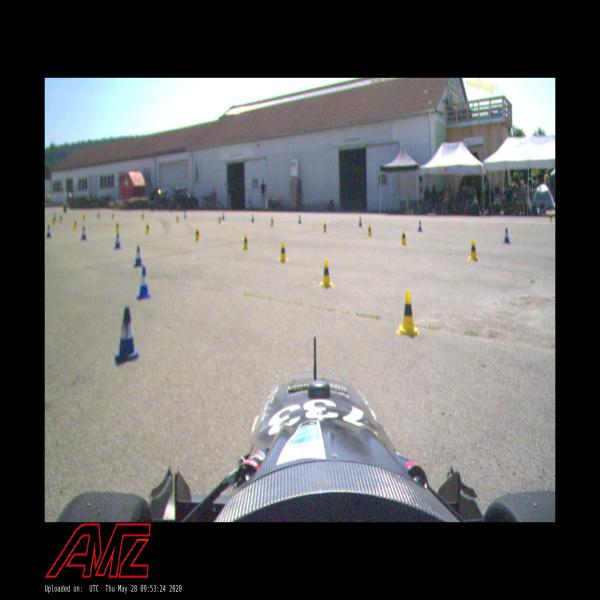blue_cone: (115, 311, 136, 360), (136, 265, 150, 298), (133, 245, 142, 267), (502, 225, 511, 244), (113, 233, 122, 250), (80, 222, 87, 240), (45, 224, 52, 238), (417, 219, 423, 232), (358, 216, 364, 228), (297, 214, 302, 224), (251, 214, 255, 222), (96, 210, 100, 218), (221, 212, 225, 220), (184, 210, 186, 220)
yellow_cone: (396, 290, 420, 339), (320, 258, 334, 288), (468, 236, 479, 260), (278, 240, 288, 263), (400, 228, 408, 244), (242, 234, 250, 250), (194, 226, 200, 242), (366, 223, 373, 236), (322, 219, 328, 234), (144, 220, 150, 234), (114, 220, 120, 232), (269, 215, 274, 226), (73, 218, 78, 229), (175, 212, 180, 222), (52, 214, 56, 224), (58, 214, 62, 223), (218, 215, 221, 224), (82, 214, 85, 221)
